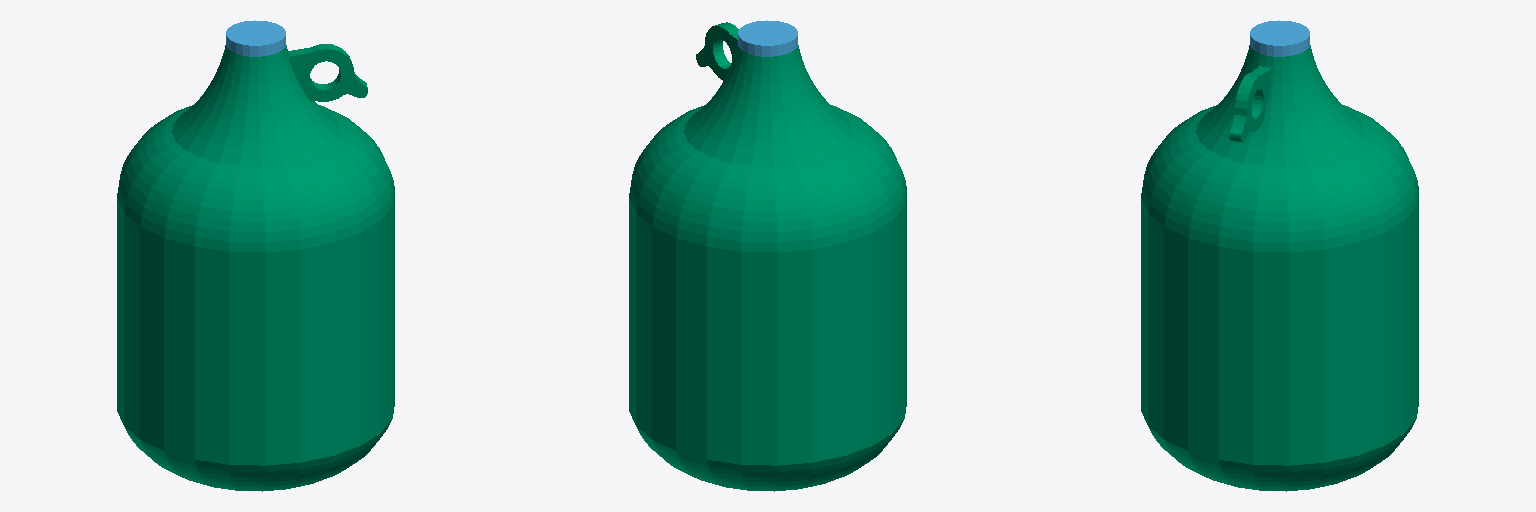
URDF robot description (partnet_21dbbd17ae4c3fce6a90f735365ac29e):
<?xml version="1.0" ?>
<robot name="partnet_21dbbd17ae4c3fce6a90f735365ac29e">
	<link name="base"/>
	<link name="link_0">
		<visual name="lid-10">
			<origin xyz="0.02545437692774532 0 -0.006141457823836672"/>
			<geometry>
				<mesh filename="textured_objs/new-0.obj"/>
			</geometry>
		</visual>
		<collision>
			<origin xyz="0.02545437692774532 0 -0.006141457823836672"/>
			<geometry>
				<mesh filename="textured_objs/new-0.obj"/>
			</geometry>
		</collision>
	</link>
	<joint name="joint_0" type="prismatic">
		<origin xyz="-0.02545437692774532 0 0.006141457823836672"/>
		<axis xyz="0 1 0"/>
		<child link="link_0"/>
		<parent link="link_1"/>
		<limit lower="-0.06400000000000006" upper="-0.016000000000000014"/>
	</joint>
	<link name="link_1">
		<visual name="body-7">
			<origin xyz="0 0 0"/>
			<geometry>
				<mesh filename="textured_objs/new-4.obj"/>
			</geometry>
		</visual>
		<visual name="body_handle-8">
			<origin xyz="0 0 0"/>
			<geometry>
				<mesh filename="textured_objs/new-1.obj"/>
			</geometry>
		</visual>
		<visual name="neck-9">
			<origin xyz="0 0 0"/>
			<geometry>
				<mesh filename="textured_objs/new-3.obj"/>
			</geometry>
		</visual>
		<visual name="neck-9">
			<origin xyz="0 0 0"/>
			<geometry>
				<mesh filename="textured_objs/new-2.obj"/>
			</geometry>
		</visual>
		<collision>
			<origin xyz="0 0 0"/>
			<geometry>
				<mesh filename="textured_objs/new-4.obj"/>
			</geometry>
		</collision>
		<collision>
			<origin xyz="0 0 0"/>
			<geometry>
				<mesh filename="textured_objs/new-1.obj"/>
			</geometry>
		</collision>
		<collision>
			<origin xyz="0 0 0"/>
			<geometry>
				<mesh filename="textured_objs/new-3.obj"/>
			</geometry>
		</collision>
		<collision>
			<origin xyz="0 0 0"/>
			<geometry>
				<mesh filename="textured_objs/new-2.obj"/>
			</geometry>
		</collision>
	</link>
	<joint name="joint_1" type="fixed">
		<origin rpy="1.570796326794897 0 -1.570796326794897" xyz="0 0 0"/>
		<child link="link_1"/>
		<parent link="base"/>
	</joint>
</robot>

--- Facts derived from the render (not from the file) ---
The picture shows the robot from 3 angles, left to right: view 1: azimuth 30°, elevation 25°; view 2: azimuth 150°, elevation 25°; view 3: azimuth 270°, elevation 25°; orthographic projection.
Robot: partnet_21dbbd17ae4c3fce6a90f735365ac29e — 3 links, 2 joints (1 prismatic, 1 fixed); root link base; default pose: joints at zero except 1 at the middle of their limits (joint_0 = -0.04).
Visible links, largest first — view 1: link_1, link_0; view 2: link_1, link_0; view 3: link_1, link_0.
Boxes of the visible links, <box> form: link_1: <box>117,44,394,491</box>; link_0: <box>226,20,285,56</box>; link_1: <box>629,22,906,491</box>; link_0: <box>738,20,797,56</box>; link_1: <box>1141,45,1418,491</box>; link_0: <box>1250,20,1309,56</box>.
Bounding box of the posed robot: 0.9915 × 0.9915 × 1.68 m (x, y, z).
Meshes: 5 distinct files referenced, 5 mesh visuals loaded (5 OBJ).
